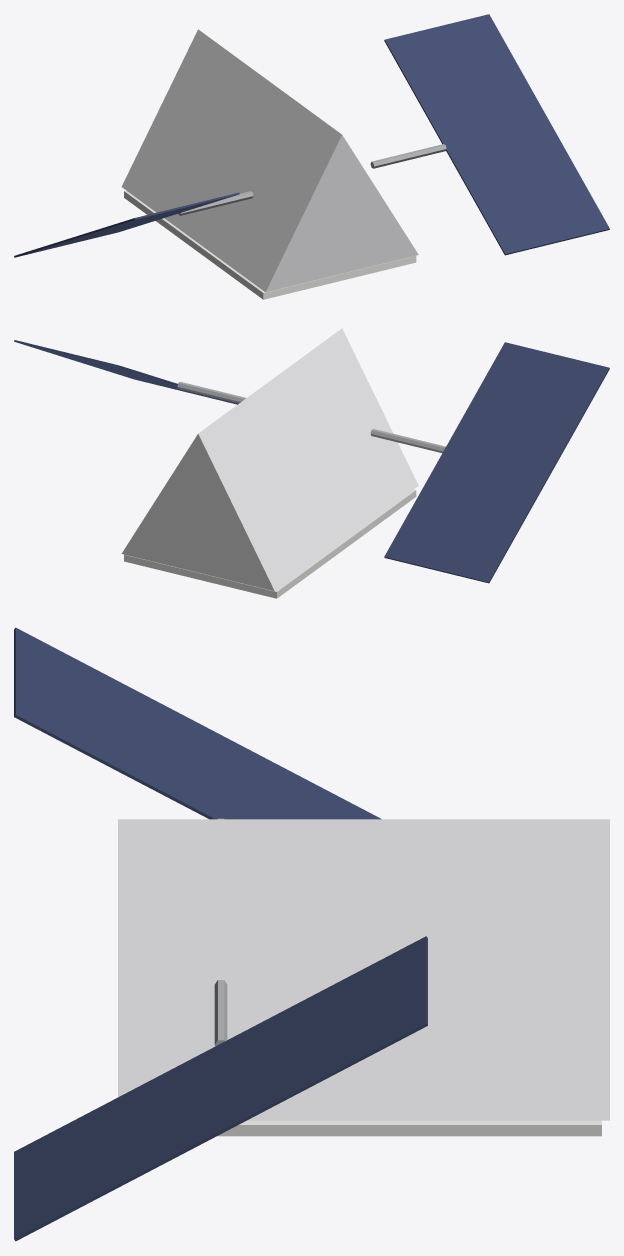
File: iridium.glb
3 views of the same model, one above another, from view 1: azimuth 30°, elevation 25°; view 2: azimuth 150°, elevation 25°; view 3: azimuth 270°, elevation 25° (orthographic). The views are drawn at different scales.
Visible parts, largest first — view 1: iridium; view 2: iridium; view 3: iridium.
Boxes of the visible parts, x1,y1,x2,y2 form: iridium: (14,14,609,299); iridium: (14,328,609,598); iridium: (14,627,609,1241).
Bounding box in the file's own units: 2 × 0.5966 × 1.27.
